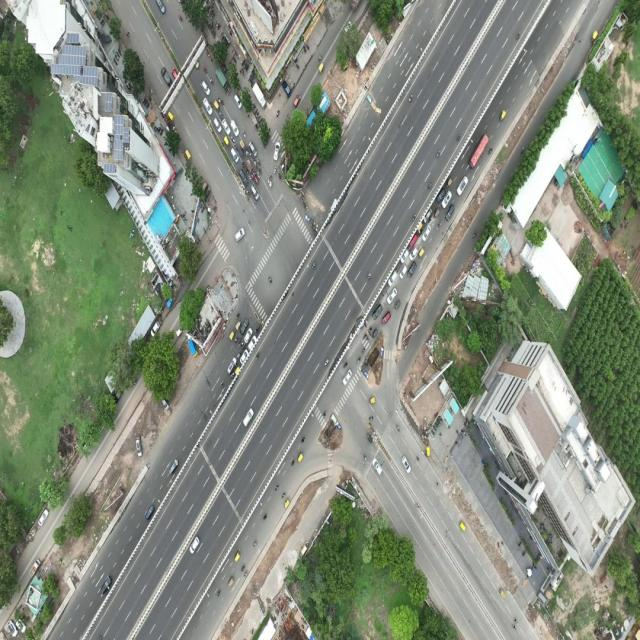3W: (591, 31, 598, 42), (499, 587, 505, 599), (459, 522, 466, 532), (284, 499, 290, 510), (228, 577, 234, 588), (186, 150, 192, 161), (204, 187, 210, 197), (214, 101, 220, 111), (168, 112, 174, 122), (318, 63, 324, 73), (500, 110, 506, 120), (418, 248, 424, 258), (394, 300, 400, 310), (426, 446, 431, 457), (235, 367, 241, 376), (235, 321, 241, 330), (446, 178, 452, 187), (417, 222, 423, 231), (298, 453, 303, 463), (235, 552, 240, 562), (202, 181, 207, 191), (240, 140, 245, 150), (434, 209, 439, 219), (369, 396, 375, 404), (230, 331, 235, 340), (224, 136, 229, 145), (368, 434, 372, 444), (373, 330, 378, 338)
Cars: (456, 176, 468, 195), (243, 408, 254, 426), (441, 190, 452, 208), (101, 576, 111, 594), (161, 67, 171, 85), (38, 508, 48, 525), (230, 120, 240, 137), (372, 458, 382, 475), (228, 357, 238, 374), (402, 456, 411, 474), (200, 80, 210, 96), (239, 170, 249, 186), (421, 225, 431, 241), (407, 262, 417, 278), (387, 288, 397, 304), (8, 620, 17, 637), (190, 537, 199, 554), (203, 98, 212, 115), (248, 142, 258, 157), (372, 304, 382, 319), (160, 396, 169, 412), (230, 147, 239, 163), (388, 270, 397, 286), (343, 369, 352, 385), (240, 319, 249, 335), (408, 234, 418, 248), (446, 204, 454, 221), (169, 459, 178, 474), (423, 208, 432, 223), (248, 336, 257, 351), (136, 438, 143, 457), (273, 142, 280, 161), (16, 620, 26, 633), (222, 119, 230, 135), (251, 185, 259, 201), (151, 322, 160, 336), (235, 228, 244, 242), (436, 188, 445, 202), (400, 250, 409, 264), (244, 328, 253, 342), (381, 312, 391, 324), (240, 349, 248, 364), (343, 21, 352, 34), (409, 247, 418, 260), (282, 80, 290, 94), (399, 266, 407, 280), (145, 507, 154, 519), (156, 0, 165, 12), (234, 95, 242, 108), (214, 118, 221, 132), (294, 93, 301, 107), (172, 67, 178, 79)
LCV: (29, 558, 40, 577)
M2W: (178, 12, 183, 22), (473, 230, 477, 239), (252, 156, 256, 165), (324, 359, 329, 366), (456, 134, 461, 141), (241, 161, 246, 168), (412, 214, 416, 222), (428, 182, 432, 190), (436, 150, 440, 158), (312, 261, 316, 269), (276, 109, 280, 117), (218, 96, 222, 104), (220, 98, 224, 106), (242, 130, 246, 138), (362, 334, 367, 340), (488, 148, 493, 154), (369, 326, 373, 333), (516, 32, 520, 39), (409, 95, 413, 102), (367, 273, 371, 280), (268, 276, 272, 283), (231, 135, 235, 142), (234, 143, 238, 150), (248, 175, 252, 182), (263, 514, 267, 521), (275, 484, 279, 491), (301, 437, 305, 444), (239, 342, 244, 347), (357, 357, 361, 363), (438, 222, 442, 228), (521, 147, 524, 155), (274, 166, 277, 174), (204, 66, 207, 74), (257, 157, 260, 165), (258, 168, 262, 174), (244, 570, 248, 576), (253, 541, 257, 547), (282, 492, 286, 498), (512, 624, 516, 630), (279, 173, 282, 180), (210, 101, 213, 108), (220, 112, 223, 119), (246, 151, 249, 158), (257, 172, 260, 179), (242, 343, 245, 350), (218, 590, 221, 597), (514, 617, 517, 624), (369, 416, 374, 420), (344, 363, 348, 368), (428, 217, 432, 222), (255, 354, 259, 359), (241, 566, 245, 571), (396, 425, 399, 431), (323, 412, 326, 418), (362, 348, 365, 354), (210, 78, 213, 84), (250, 152, 253, 158), (247, 190, 250, 196), (236, 314, 239, 320), (235, 336, 238, 342), (363, 454, 366, 460), (416, 456, 419, 462), (256, 327, 260, 331), (366, 337, 369, 342), (319, 55, 322, 60), (246, 169, 249, 174), (238, 352, 241, 357), (291, 460, 294, 465), (238, 338, 241, 342), (232, 373, 234, 378), (246, 146, 248, 150)
MAV: (470, 134, 489, 169), (215, 66, 231, 95), (252, 82, 267, 109)
